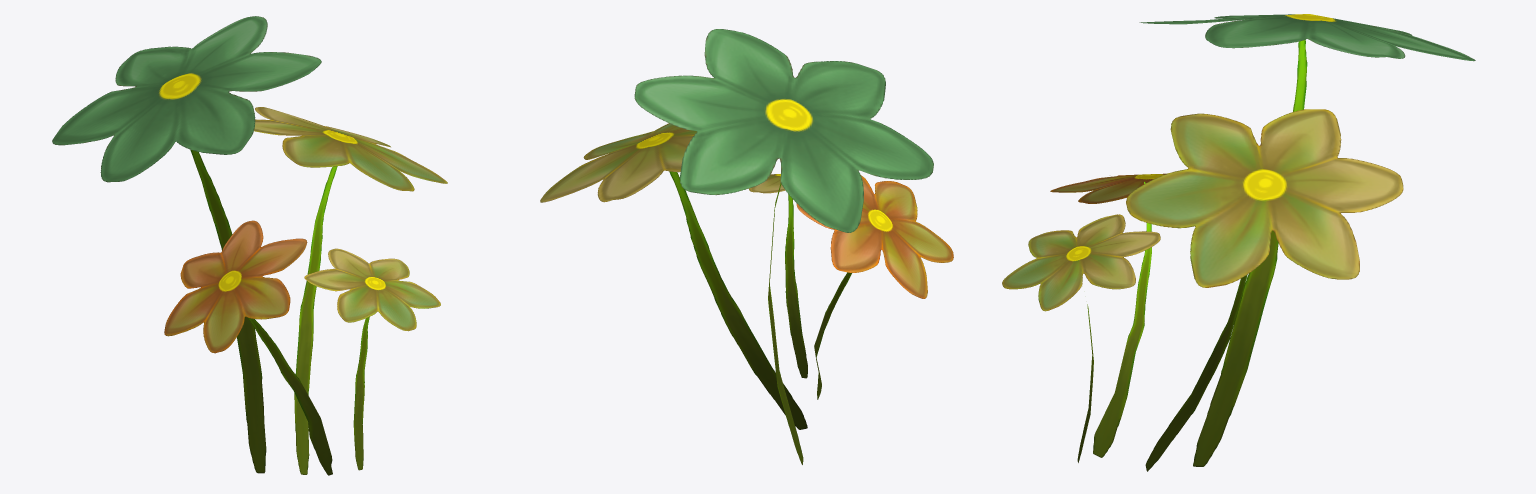
The model's file is 25_Flores_Varias.fbx.
The picture shows the model from 3 angles, left to right: view 1: azimuth 30°, elevation 25°; view 2: azimuth 150°, elevation 25°; view 3: azimuth 270°, elevation 25°; orthographic projection. The views are drawn at different scales.
Visible parts, largest first — view 1: 25_Flores_Varias; view 2: 25_Flores_Varias; view 3: 25_Flores_Varias.
Boxes of the visible parts, x1,y1,x2,y2 form: 25_Flores_Varias: (52, 16, 447, 475); 25_Flores_Varias: (540, 29, 953, 464); 25_Flores_Varias: (1002, 14, 1475, 471).
Size of the model in its own units: 37.13 by 37.74 by 37.66.
